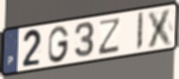2: (21, 27, 44, 71)
3: (73, 21, 97, 59)
G: (47, 25, 71, 65)
I: (135, 11, 145, 53)
X: (146, 7, 175, 50)
Z: (97, 16, 122, 57)
